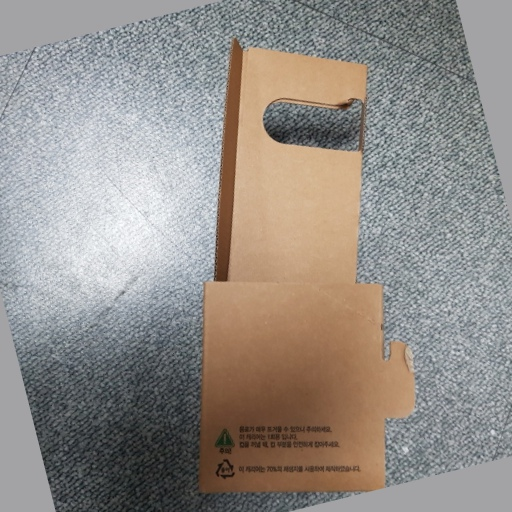Paper_0: (200, 34, 422, 502)
